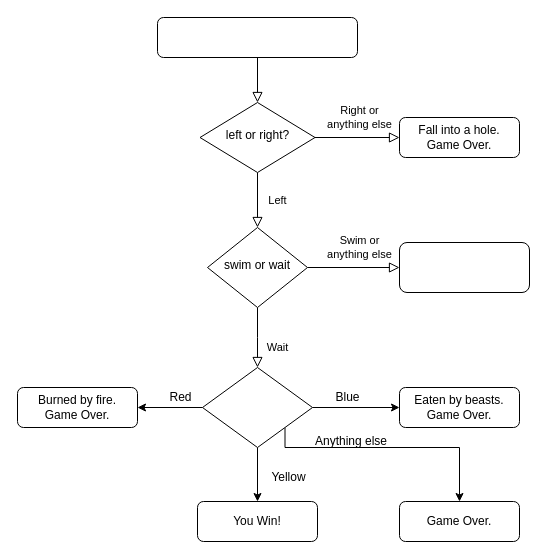
This 547x559 diagram has some shape labels left out. Each missing label, with the centre of its shape:
Attacked by lake serpent. Game Over.: the point at 464,267
Welcome to Treasure Island. Your mission is to find the treasure.: the point at 257,37
Which door?: the point at 257,407
